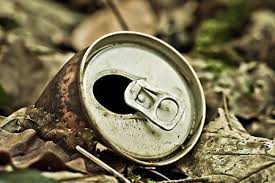metal: (36, 29, 208, 169)
